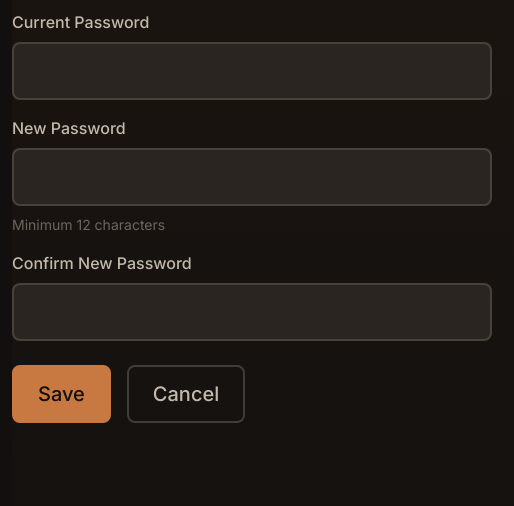
Test: ChangePasswordForm server error › shows generic message for non-Error throws
Type "somepassword" into the password field labelled "Current Password" at (252, 71), box top-left (12, 42), bottom-right (492, 100)
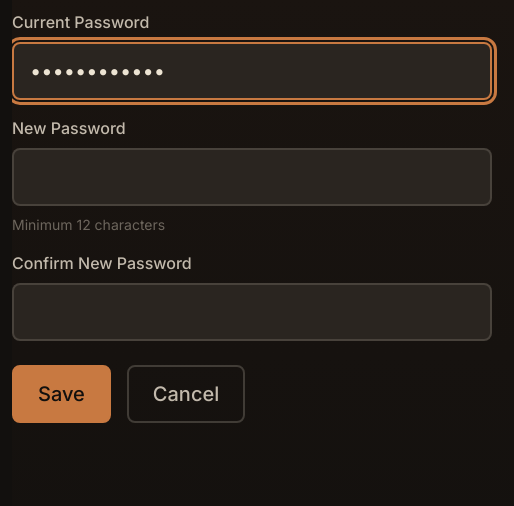
Type "validpassword123" into the password field labelled "New Password" at (252, 177), box top-left (12, 148), bottom-right (492, 206)
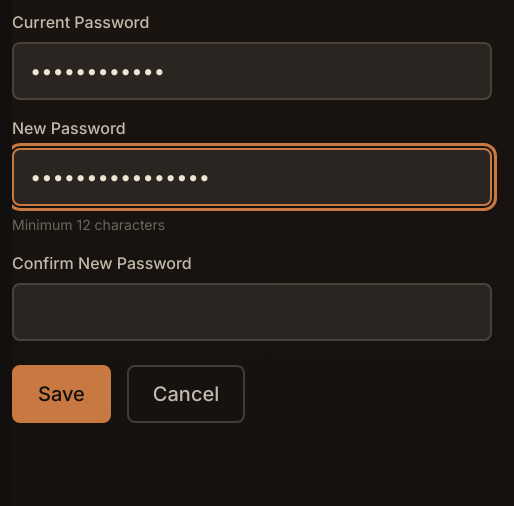
Type "validpassword123" into the password field labelled "Confirm New Password" at (252, 312), box top-left (12, 283), bottom-right (492, 341)
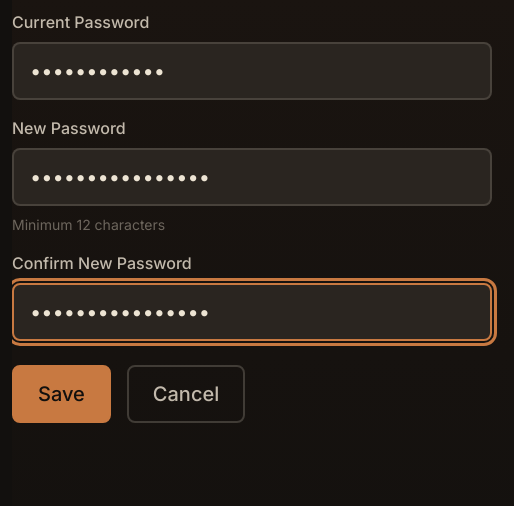
Click the button "Save" at (61, 394), box top-left (12, 365), bottom-right (111, 423)
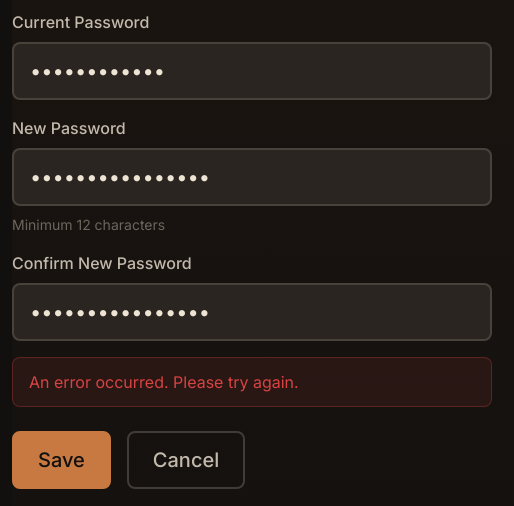
Expected: the text "An error occurred. Please try again." is shown, top-left (12, 357), bottom-right (492, 407)
